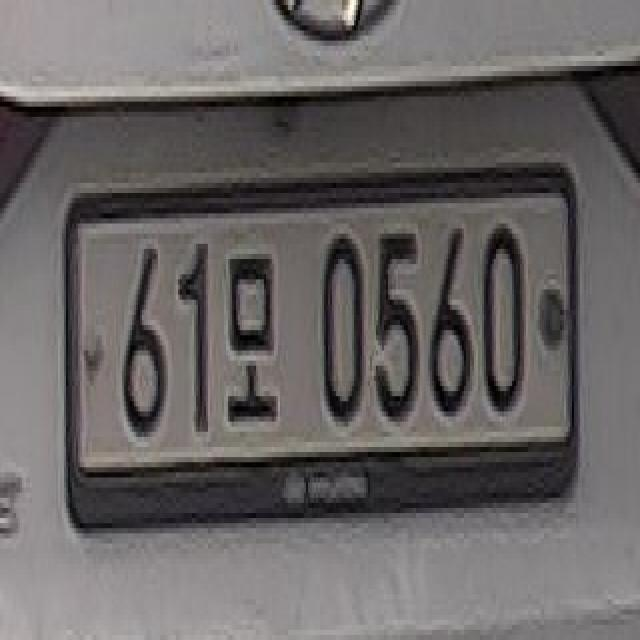0: (479, 209, 532, 421), (318, 222, 367, 430)
1: (172, 234, 217, 442)
5: (374, 222, 422, 422)
6: (114, 232, 168, 446), (426, 218, 476, 422)
license_plate: (54, 164, 584, 508)
mo: (224, 234, 283, 442)
